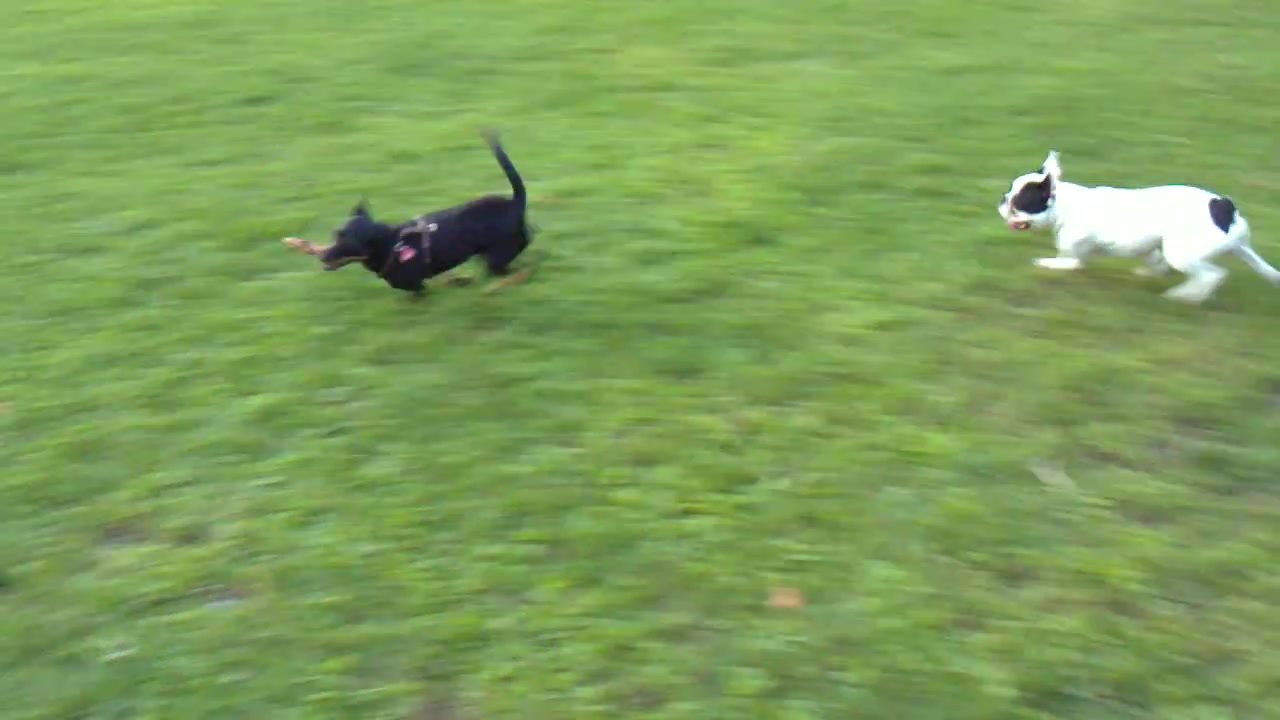dog: (997, 153, 1280, 310), (318, 127, 541, 302)
